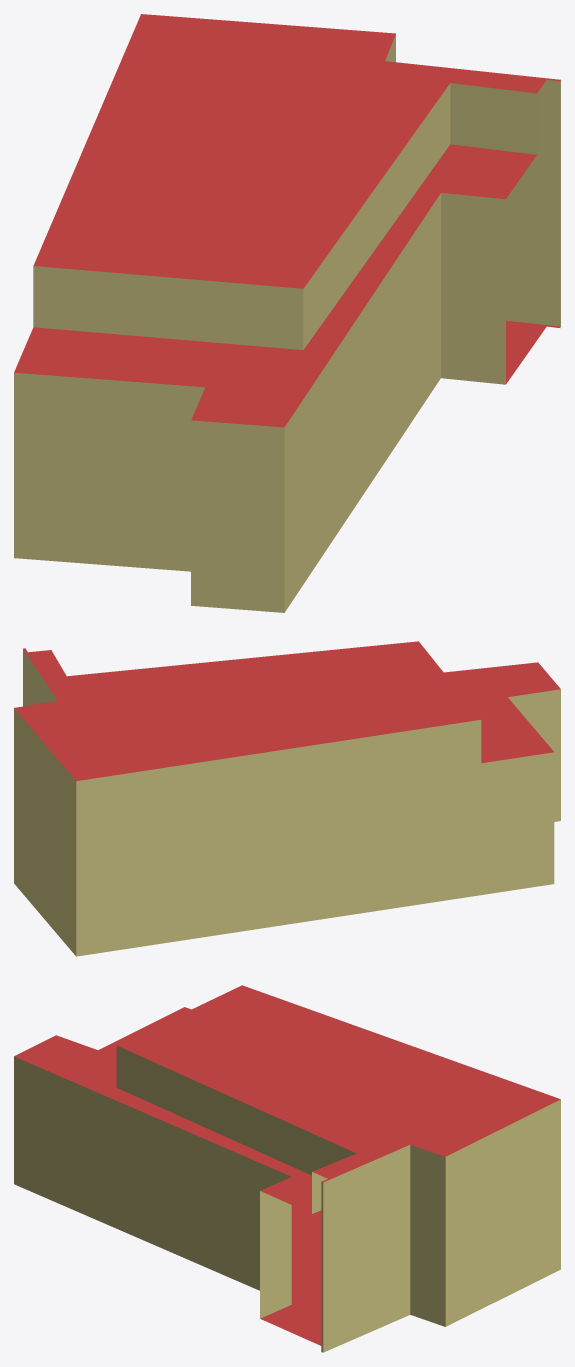
3 views of the same model, one above another, from view 1: azimuth 30°, elevation 25°; view 2: azimuth 150°, elevation 25°; view 3: azimuth 270°, elevation 25° (orthographic). The views are drawn at different scales.
Visible parts, largest first — view 1: group_7, group_3, group_4, group_6, group_8; view 2: group_4, group_3, group_7, group_6; view 3: group_4, group_3, group_7, group_6, group_5, group_8.
Boxes of the visible parts, x1,y1,x2,y2 form: group_7: (14,192,505,612); group_3: (33,14,560,288); group_4: (33,34,560,349); group_6: (14,144,536,427); group_8: (506,336,536,383); group_4: (14,649,481,956); group_3: (14,641,480,780); group_7: (481,689,560,894); group_6: (444,662,560,763); group_4: (116,1046,560,1352); group_3: (117,985,560,1182); group_7: (14,1056,291,1318); group_6: (14,1007,311,1213); group_5: (291,1205,321,1345); group_8: (260,1294,321,1341).
Bounding box in the file's own units: 34.7 × 36.82 × 12.64.
